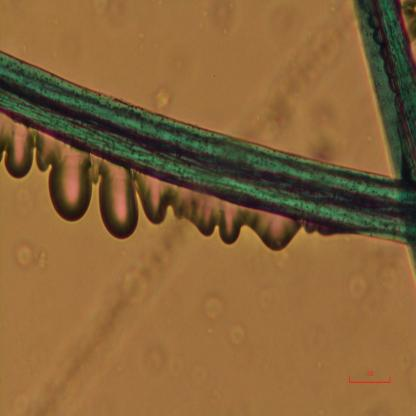Air bubble: (141, 174, 294, 254), (36, 136, 94, 224), (96, 160, 138, 240), (0, 119, 33, 182)
Background material: (72, 226, 178, 367), (256, 37, 324, 139), (305, 92, 345, 162), (196, 5, 247, 49), (142, 345, 196, 383), (235, 280, 276, 314), (13, 240, 50, 272), (201, 290, 228, 324), (347, 271, 370, 305), (226, 324, 249, 352), (151, 85, 172, 110)
Microfibre: (0, 51, 416, 244), (353, 0, 416, 274)
